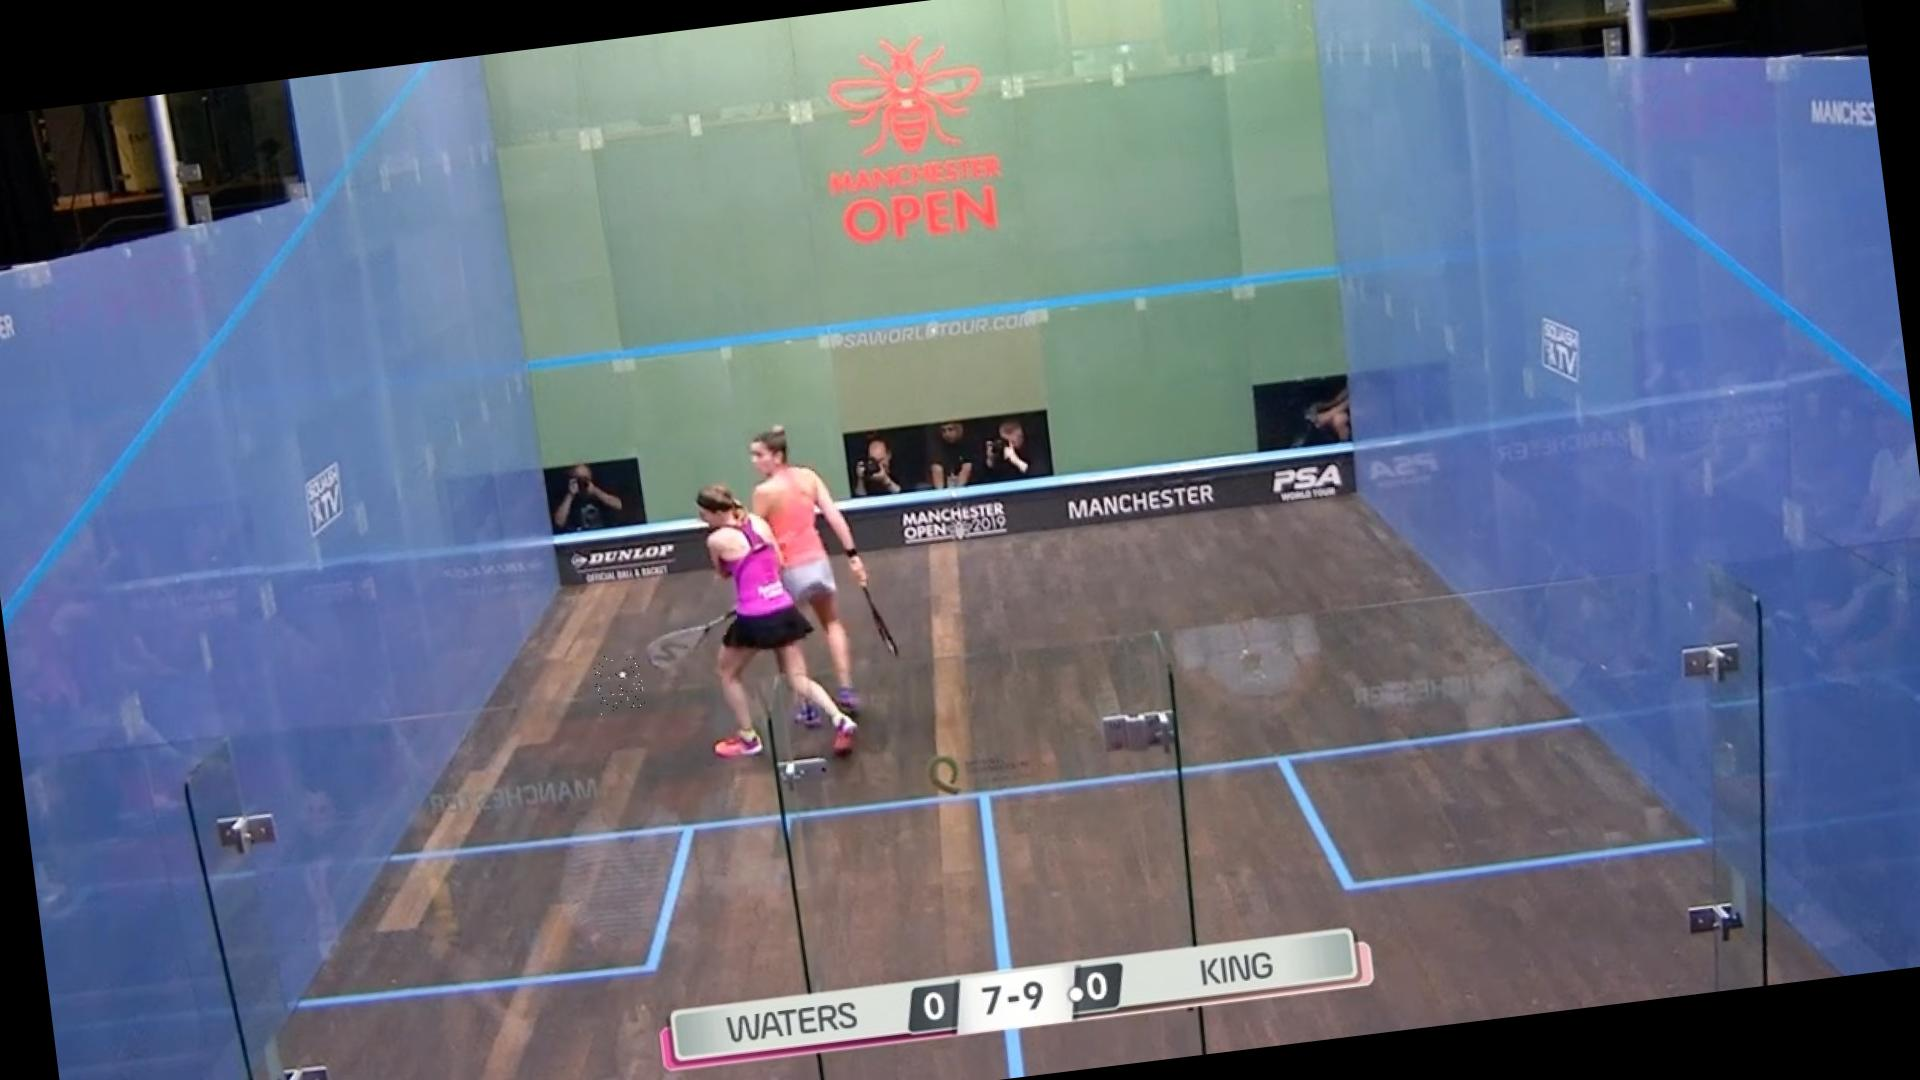Squash-Ball: (592, 651, 646, 715)
